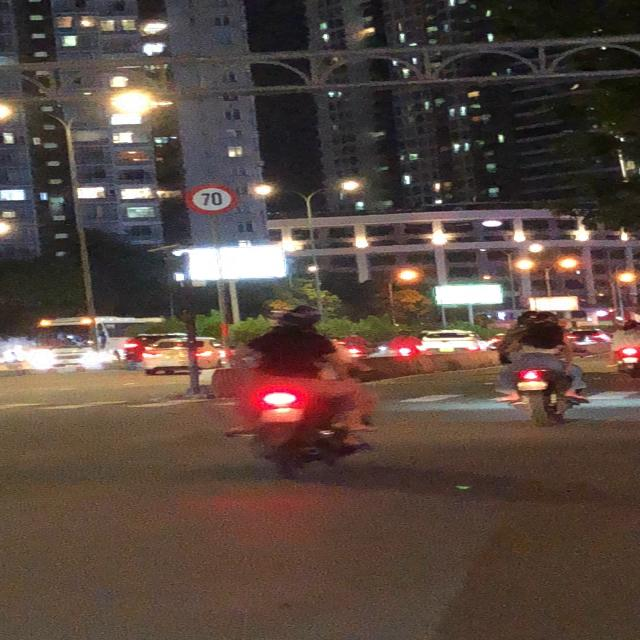Bien bao toc do toi da cho phep: (179, 182, 235, 218)
